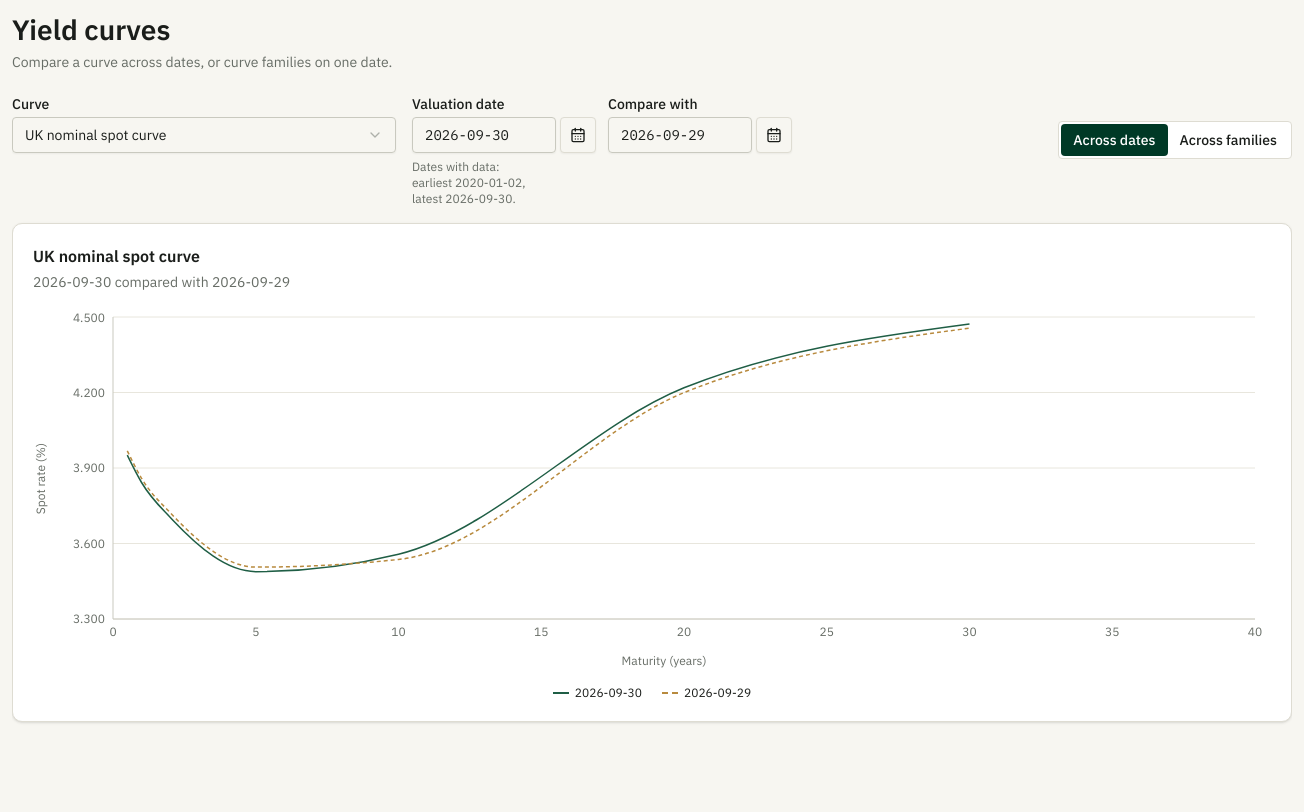
Epic overview-and-yield-curves, Story 4: Yield curves across families › titles the chart by rate type with a "{date}, long end" subtitle and matching y axis, for spot and forward curves
The image size is (1304, 812).
Expected: the dropdown labelled "curve" reads "UK nominal spot curve", [12, 117, 396, 153]
Expected: the field showing "2026-09-30" is shown, [412, 117, 556, 153]
Click the button "Across families".
click(1228, 140)  # box [1168, 124, 1289, 156]
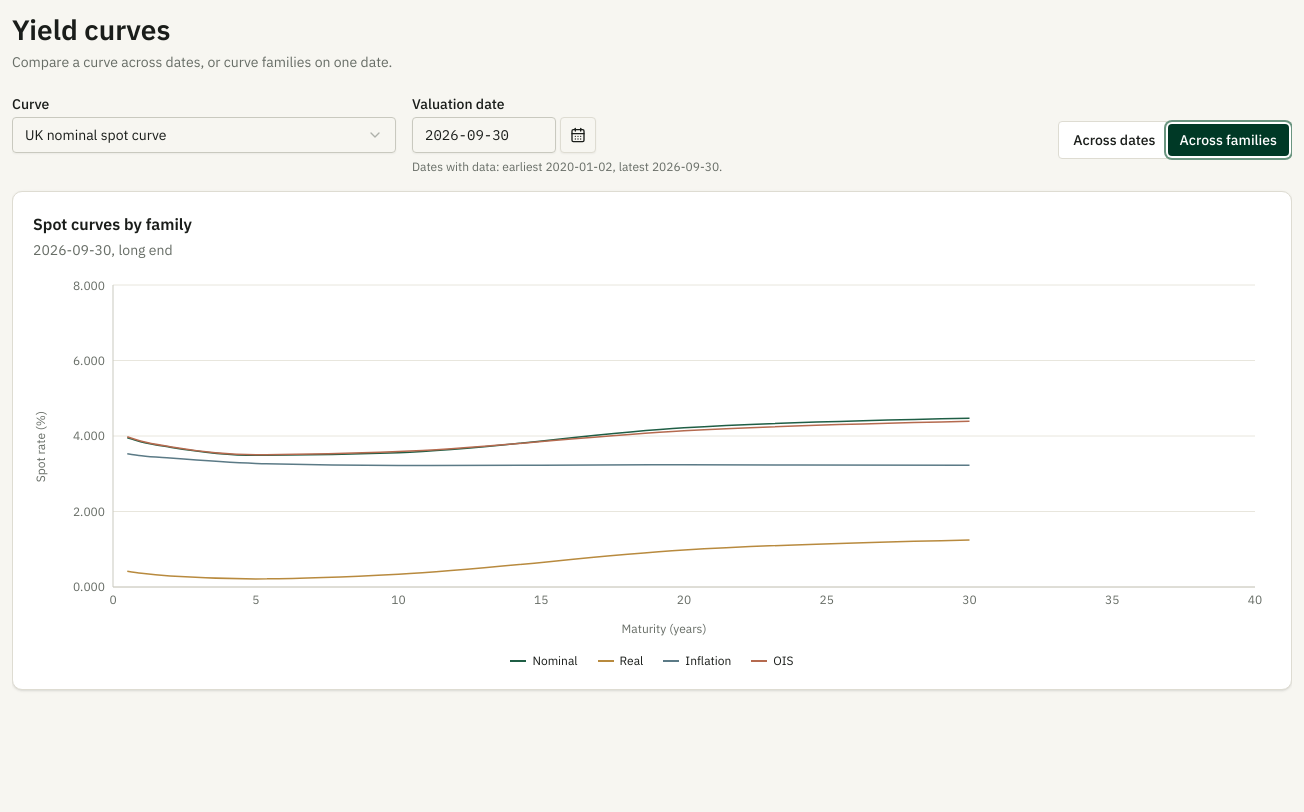
Expected: the text "Spot rate (%)" is shown, [33, 411, 49, 483]
Expected: the text "Forward rate (%)" is not shown
Click the dropdown labelled "curve".
click(96, 135)  # box [12, 117, 396, 153]
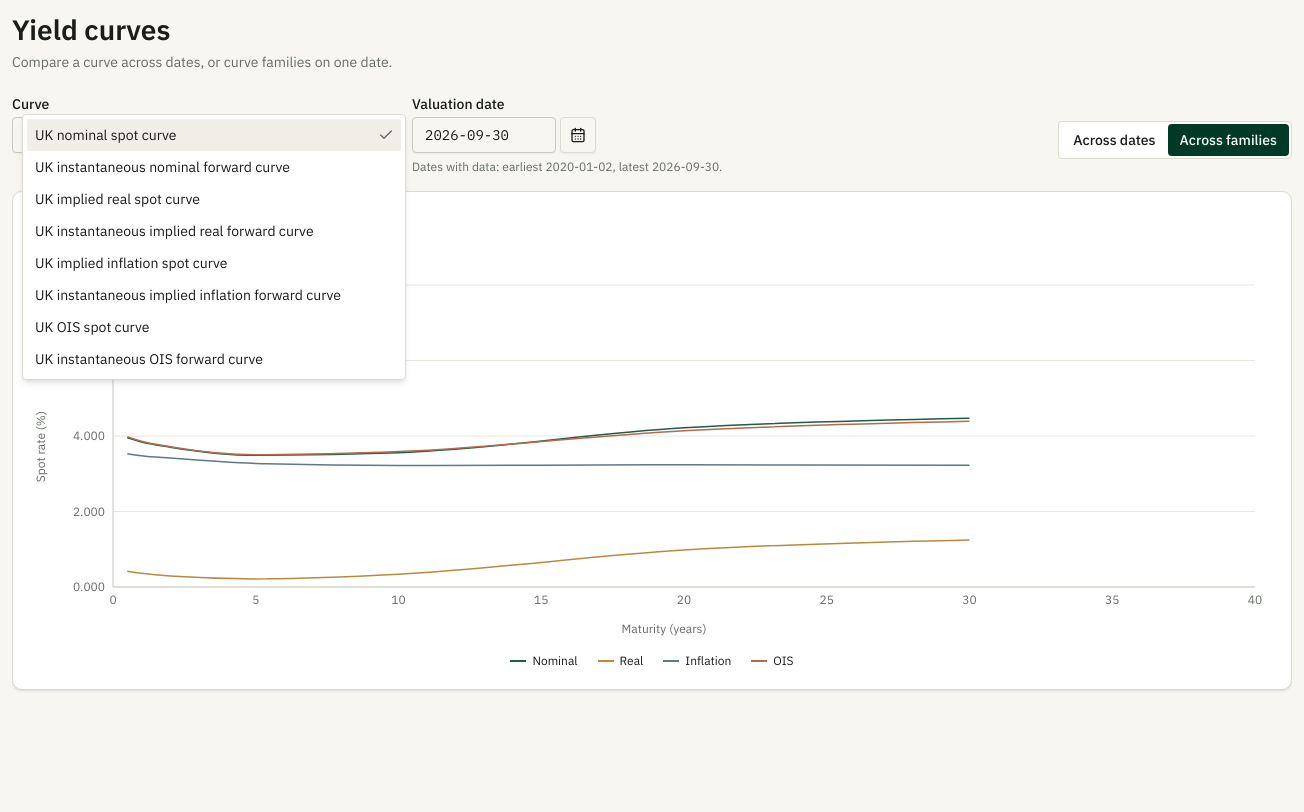
Click the option "UK instantaneous nominal forward curve".
click(162, 167)  # box [35, 158, 290, 176]
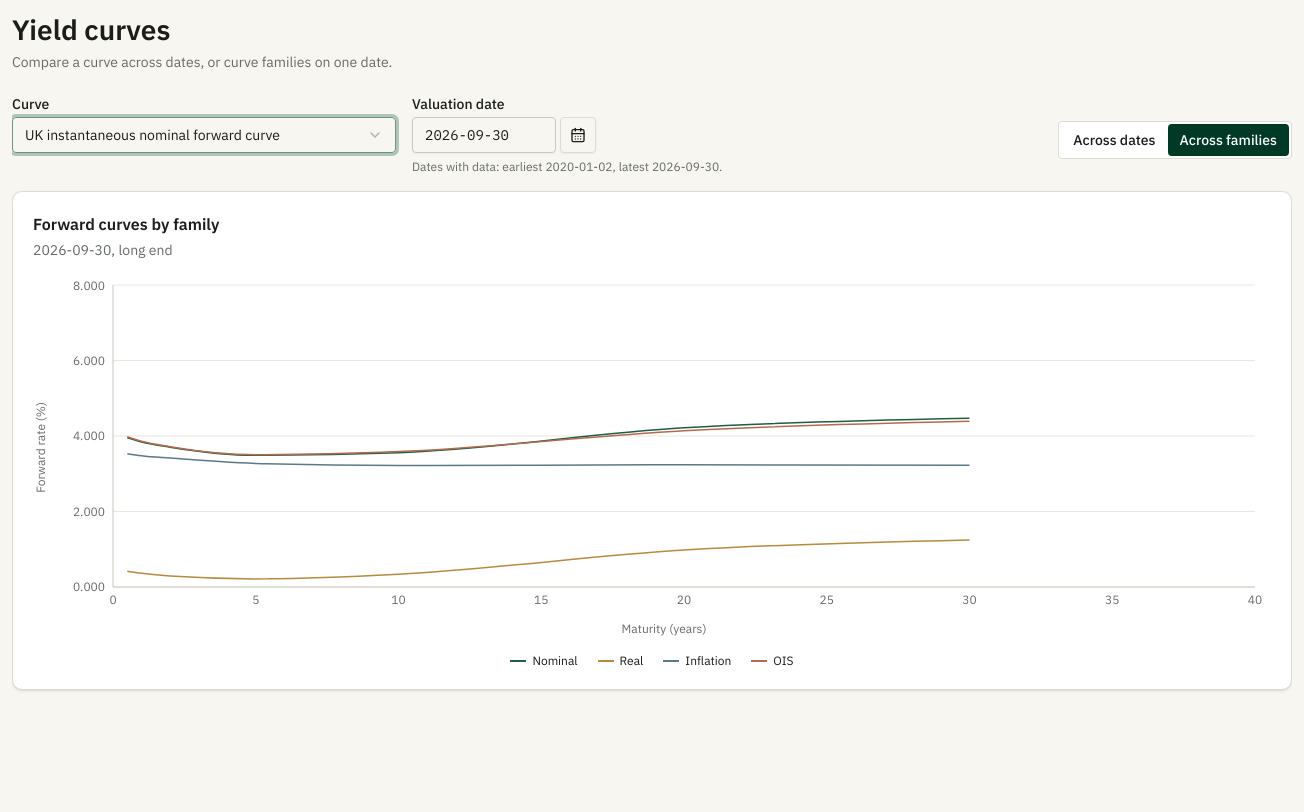
Result: the heading "Spot curves by family" is gone
Result: the text "Forward rate (%)" is shown at [33, 402, 49, 492]
Result: the text "Spot rate (%)" is gone
